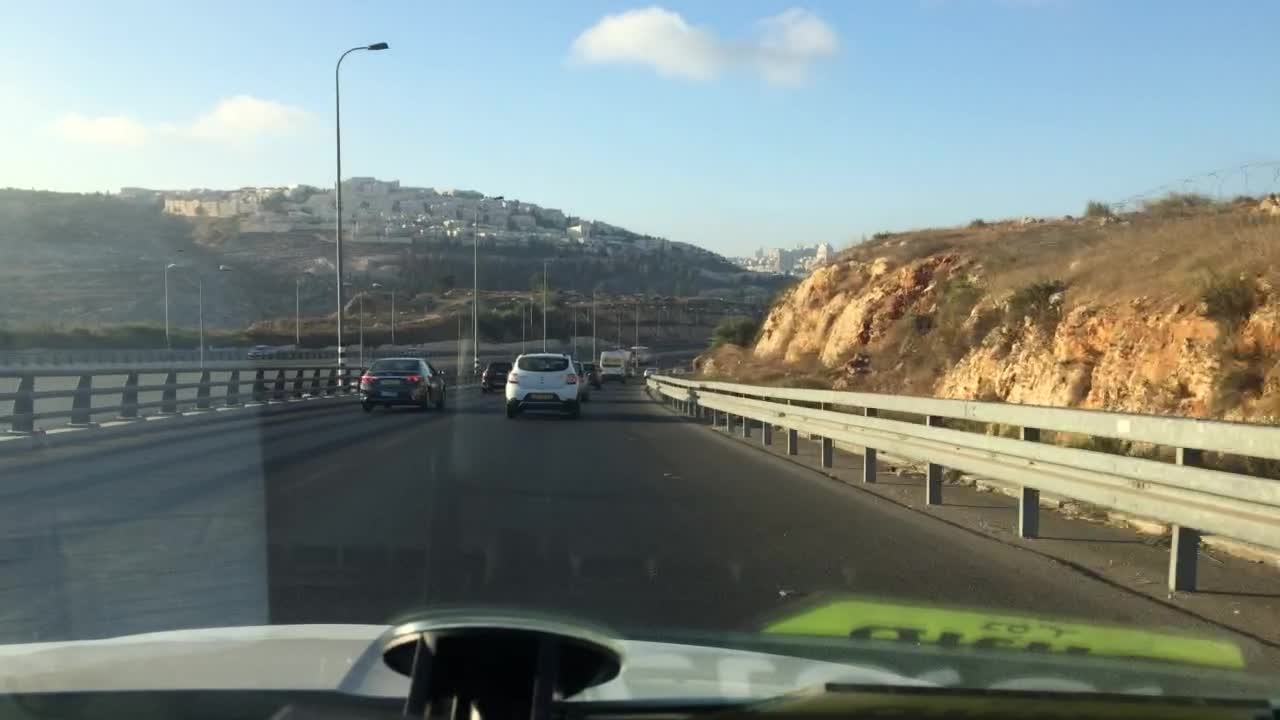car: (506, 351, 581, 420), (358, 356, 446, 413), (479, 361, 511, 394), (597, 350, 626, 383), (581, 359, 601, 390), (572, 360, 587, 401), (247, 343, 277, 360), (616, 350, 632, 376), (631, 346, 648, 365), (702, 336, 719, 349), (642, 366, 657, 380), (421, 346, 436, 358), (658, 366, 675, 376), (672, 364, 685, 375), (406, 348, 422, 356)
